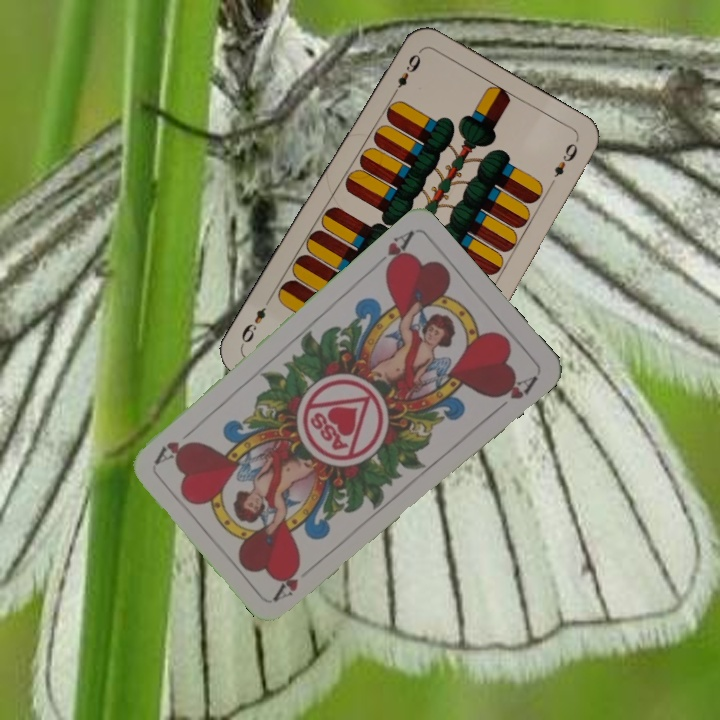E9: (388, 46, 424, 100)
HA: (367, 227, 416, 277), (270, 565, 302, 603)
